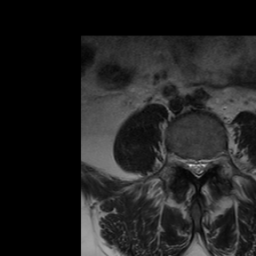CCS_normal: (193, 150, 201, 185)
LFS_normal: (209, 149, 216, 175)
LLS_normal: (201, 150, 209, 179)
RFS_normal: (179, 149, 187, 177)
RLS_normal: (187, 150, 194, 178)
